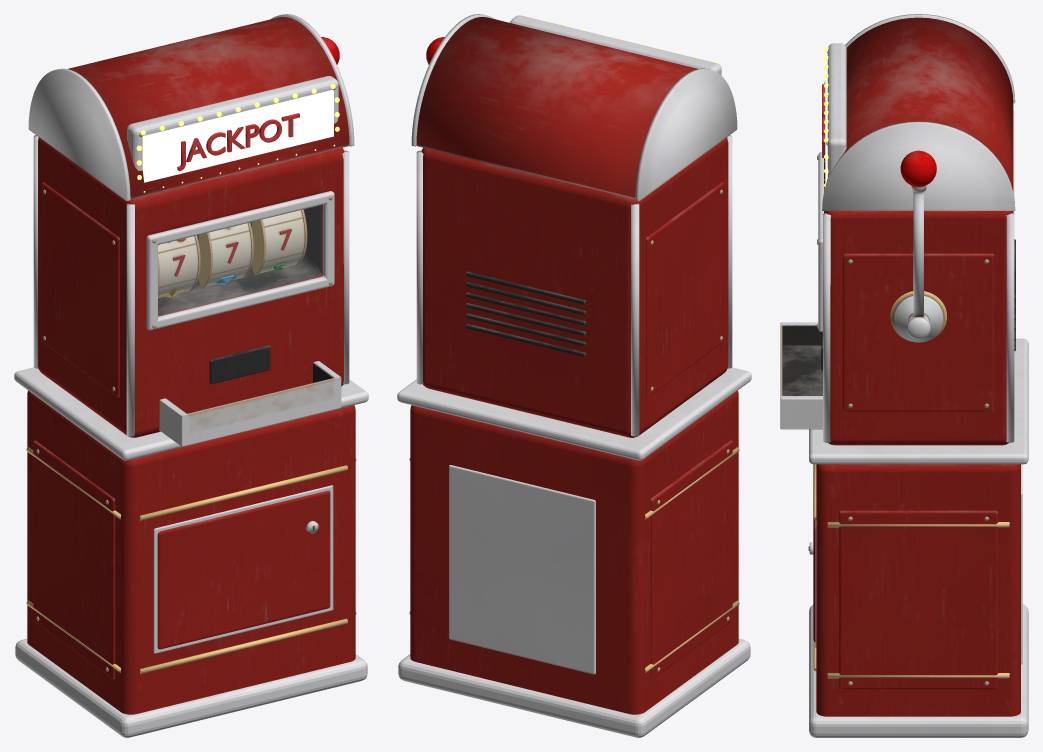
File: SlotMachine.fbx
The picture shows the model from 3 angles, left to right: view 1: azimuth 30°, elevation 25°; view 2: azimuth 150°, elevation 25°; view 3: azimuth 270°, elevation 25°; orthographic projection.
Visible parts, largest first — view 1: SM_Base, SM_Cabinet, SM_Side_Panels, SM_Base_Door, SM_Top_Dome, SM_Window_Glass, SM_Base_Plinth, SM_Marquee_Panel, SM_Dome_Cap_L, SM_Window_Frame, SM_Coin_Tray, SM_Corner_Rails (+10 smaller); view 2: SM_Cabinet, SM_Base, SM_Top_Dome, SM_Side_Panels, SM_Rear_Plate, SM_Base_Plinth, SM_Base_TopTrim, SM_Dome_Cap_L, SM_Corner_Rails, SM_Rear_Vents, SM_Marquee_Frame, SM_Dome_Cap_R (+1 smaller); view 3: SM_Side_Panels, SM_Base, SM_Top_Dome, SM_Cabinet, SM_Dome_Cap_R, SM_Base_Plinth, SM_Base_TopTrim, SM_Coin_Tray, SM_Corner_Rails, SM_Lever, SM_Marquee_Frame, SM_Lever_Mount (+4 smaller).
Boxes of the visible parts, x1=… form: SM_Base: x1=27, y1=390, x2=355, y2=714; SM_Cabinet: x1=38, y1=137, x2=344, y2=437; SM_Side_Panels: x1=33, y1=182, x2=119, y2=679; SM_Base_Door: x1=157, y1=490, x2=330, y2=649; SM_Top_Dome: x1=68, y1=17, x2=349, y2=199; SM_Window_Glass: x1=158, y1=206, x2=322, y2=315; SM_Base_Plinth: x1=15, y1=638, x2=367, y2=737; SM_Marquee_Panel: x1=142, y1=90, x2=333, y2=182; SM_Dome_Cap_L: x1=28, y1=68, x2=130, y2=201; SM_Window_Frame: x1=146, y1=191, x2=334, y2=330; SM_Coin_Tray: x1=159, y1=361, x2=341, y2=446; SM_Corner_Rails: x1=33, y1=135, x2=349, y2=436; SM_Cabinet: x1=421, y1=137, x2=728, y2=437; SM_Base: x1=410, y1=390, x2=738, y2=714; SM_Top_Dome: x1=416, y1=17, x2=697, y2=199; SM_Side_Panels: x1=646, y1=182, x2=732, y2=679; SM_Rear_Plate: x1=449, y1=465, x2=595, y2=674; SM_Base_Plinth: x1=398, y1=638, x2=750, y2=737; SM_Base_TopTrim: x1=397, y1=367, x2=751, y2=460; SM_Dome_Cap_L: x1=635, y1=68, x2=737, y2=201; SM_Corner_Rails: x1=416, y1=135, x2=732, y2=436; SM_Rear_Vents: x1=465, y1=271, x2=586, y2=356; SM_Marquee_Frame: x1=510, y1=15, x2=721, y2=75; SM_Dome_Cap_R: x1=411, y1=14, x2=494, y2=146; SM_Side_Panels: x1=839, y1=253, x2=998, y2=689; SM_Base: x1=816, y1=464, x2=1020, y2=716; SM_Top_Dome: x1=824, y1=17, x2=1013, y2=190; SM_Cabinet: x1=824, y1=211, x2=1013, y2=445; SM_Dome_Cap_R: x1=822, y1=121, x2=1015, y2=210; SM_Base_Plinth: x1=809, y1=604, x2=1028, y2=737; SM_Base_TopTrim: x1=809, y1=338, x2=1028, y2=464; SM_Coin_Tray: x1=780, y1=322, x2=822, y2=429; SM_Corner_Rails: x1=823, y1=110, x2=1014, y2=442; SM_Lever: x1=900, y1=150, x2=936, y2=339; SM_Marquee_Frame: x1=827, y1=43, x2=846, y2=179; SM_Lever_Mount: x1=890, y1=291, x2=946, y2=342.
Size of the model in its own units: 0.808 by 1.78 by 0.655.
